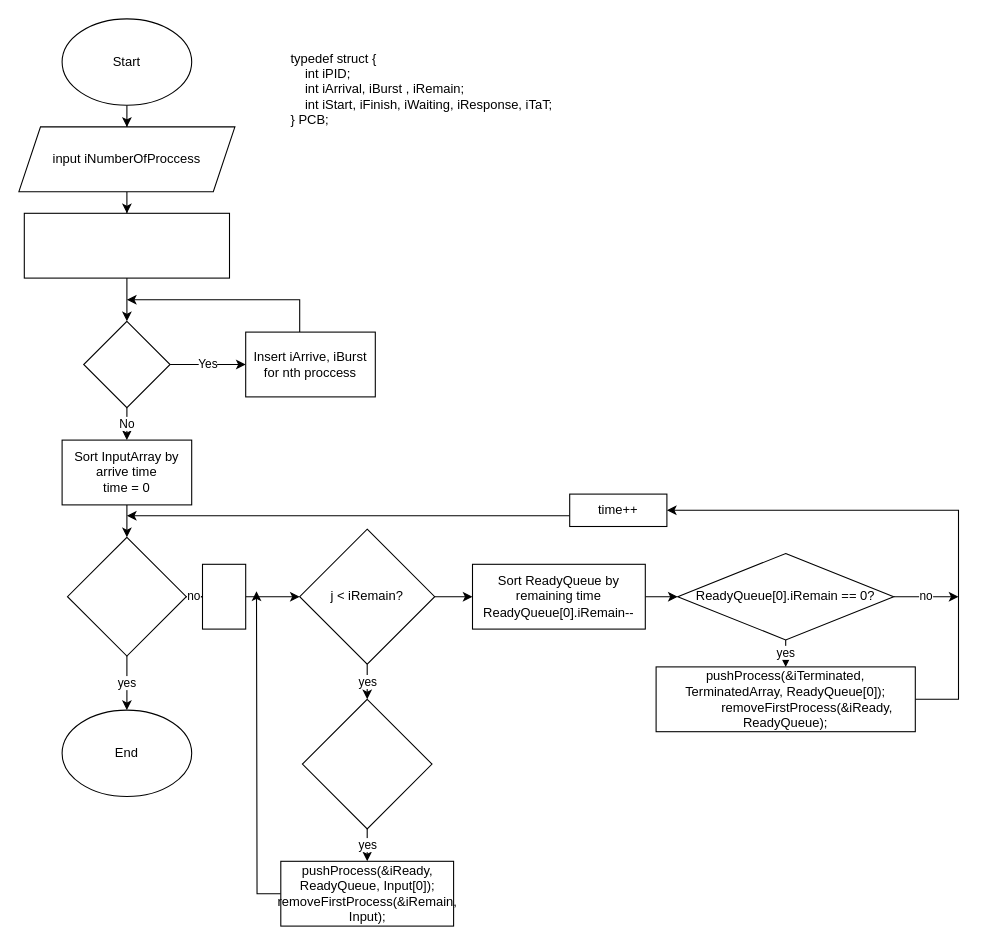
Some shapes in this 986 by 945 pixel diagram are drawn without their labels. The shapes that lost their labels are listed below. From the top down, each one's centre as x and y in pixels, then its label:
(126,245): iRemain = iNumberOfProcess, iReady = 0, iTerminated = 0 i=0
(126,364): i<n?
(126,596): iTerminate < iNumberOfProcess
(223,596): j = 0
(366,763): time == Input[0].iArrival
